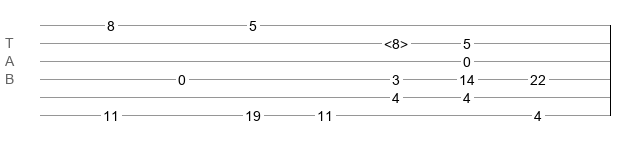0: (178, 72, 186, 82), (463, 54, 471, 64)
11: (103, 108, 119, 118), (317, 108, 333, 118)
14: (459, 72, 475, 82)
19: (245, 108, 261, 118)
22: (530, 72, 546, 82)
3: (392, 72, 400, 82)
4: (392, 90, 400, 100), (463, 90, 471, 100), (534, 108, 542, 118)
5: (249, 18, 257, 28), (463, 36, 471, 46)
8: (107, 18, 115, 28)
harmonic: (384, 36, 408, 46)
